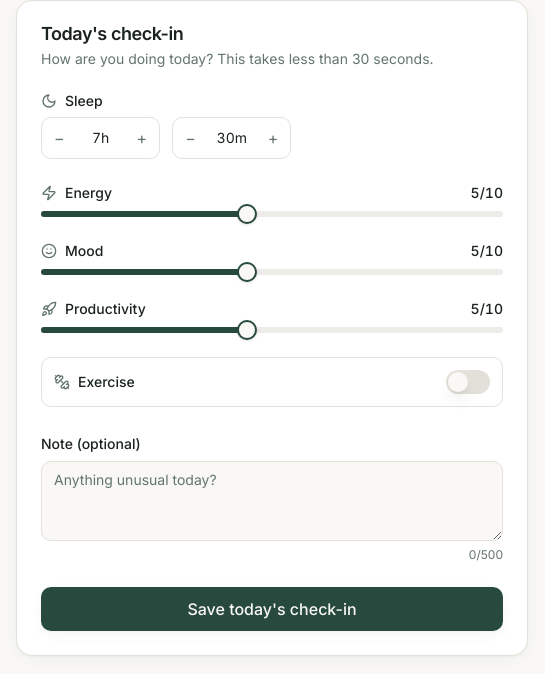
Test: CheckIn › submits a new check-in with the default values
This screenshot has width=545, height=674.
Click the button "Save today's check-in" at (272,609), box [41,587,503,631]
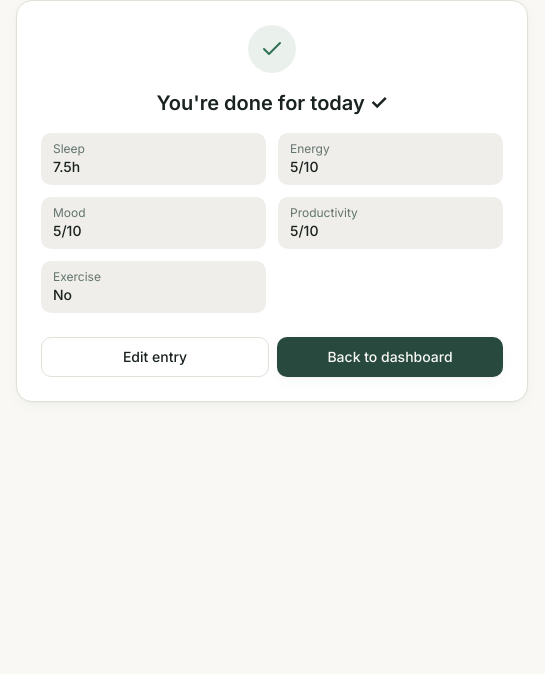
expect the heading "You're done for today ✓" is shown: met, box [156,91,388,115]
